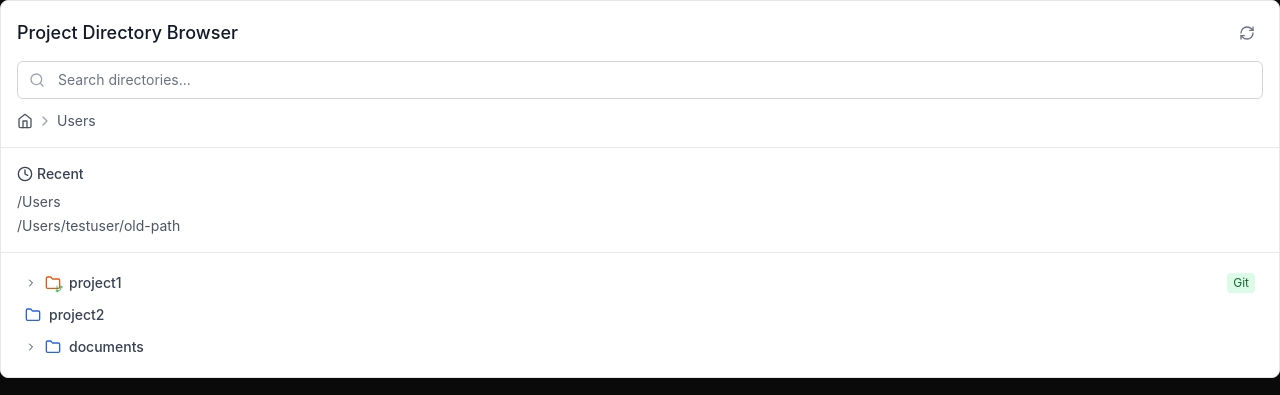
Test: DirectoryBrowser › should handle empty search results
This screenshot has width=1280, height=395.
Expected: the text "project1" is shown, x1=69 y1=274 x2=122 y2=291
Type "nonexistent" into the field with placeholder "Search directories...".
click(640, 80); type("nonexistent")  # box x1=17 y1=61 x2=1263 y2=99
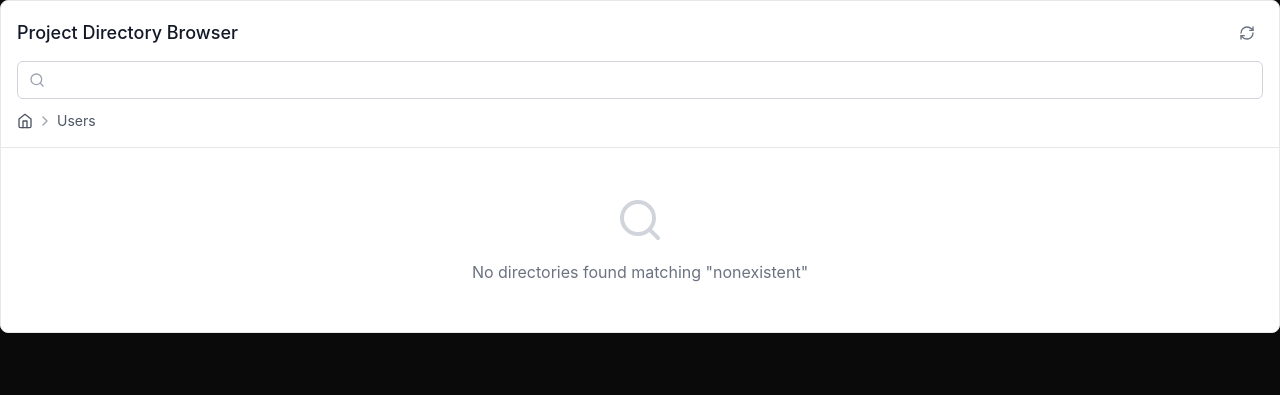
Expected: the text "No directories found matching \"nonexistent\"" is shown, x1=472 y1=262 x2=808 y2=282
